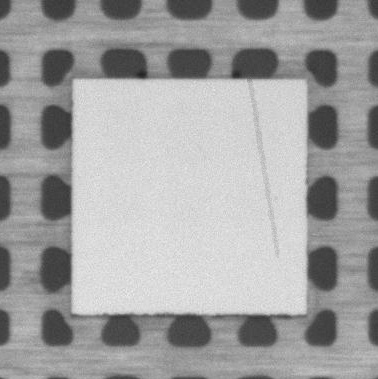DIE_CRACK: (249, 80, 277, 257)
